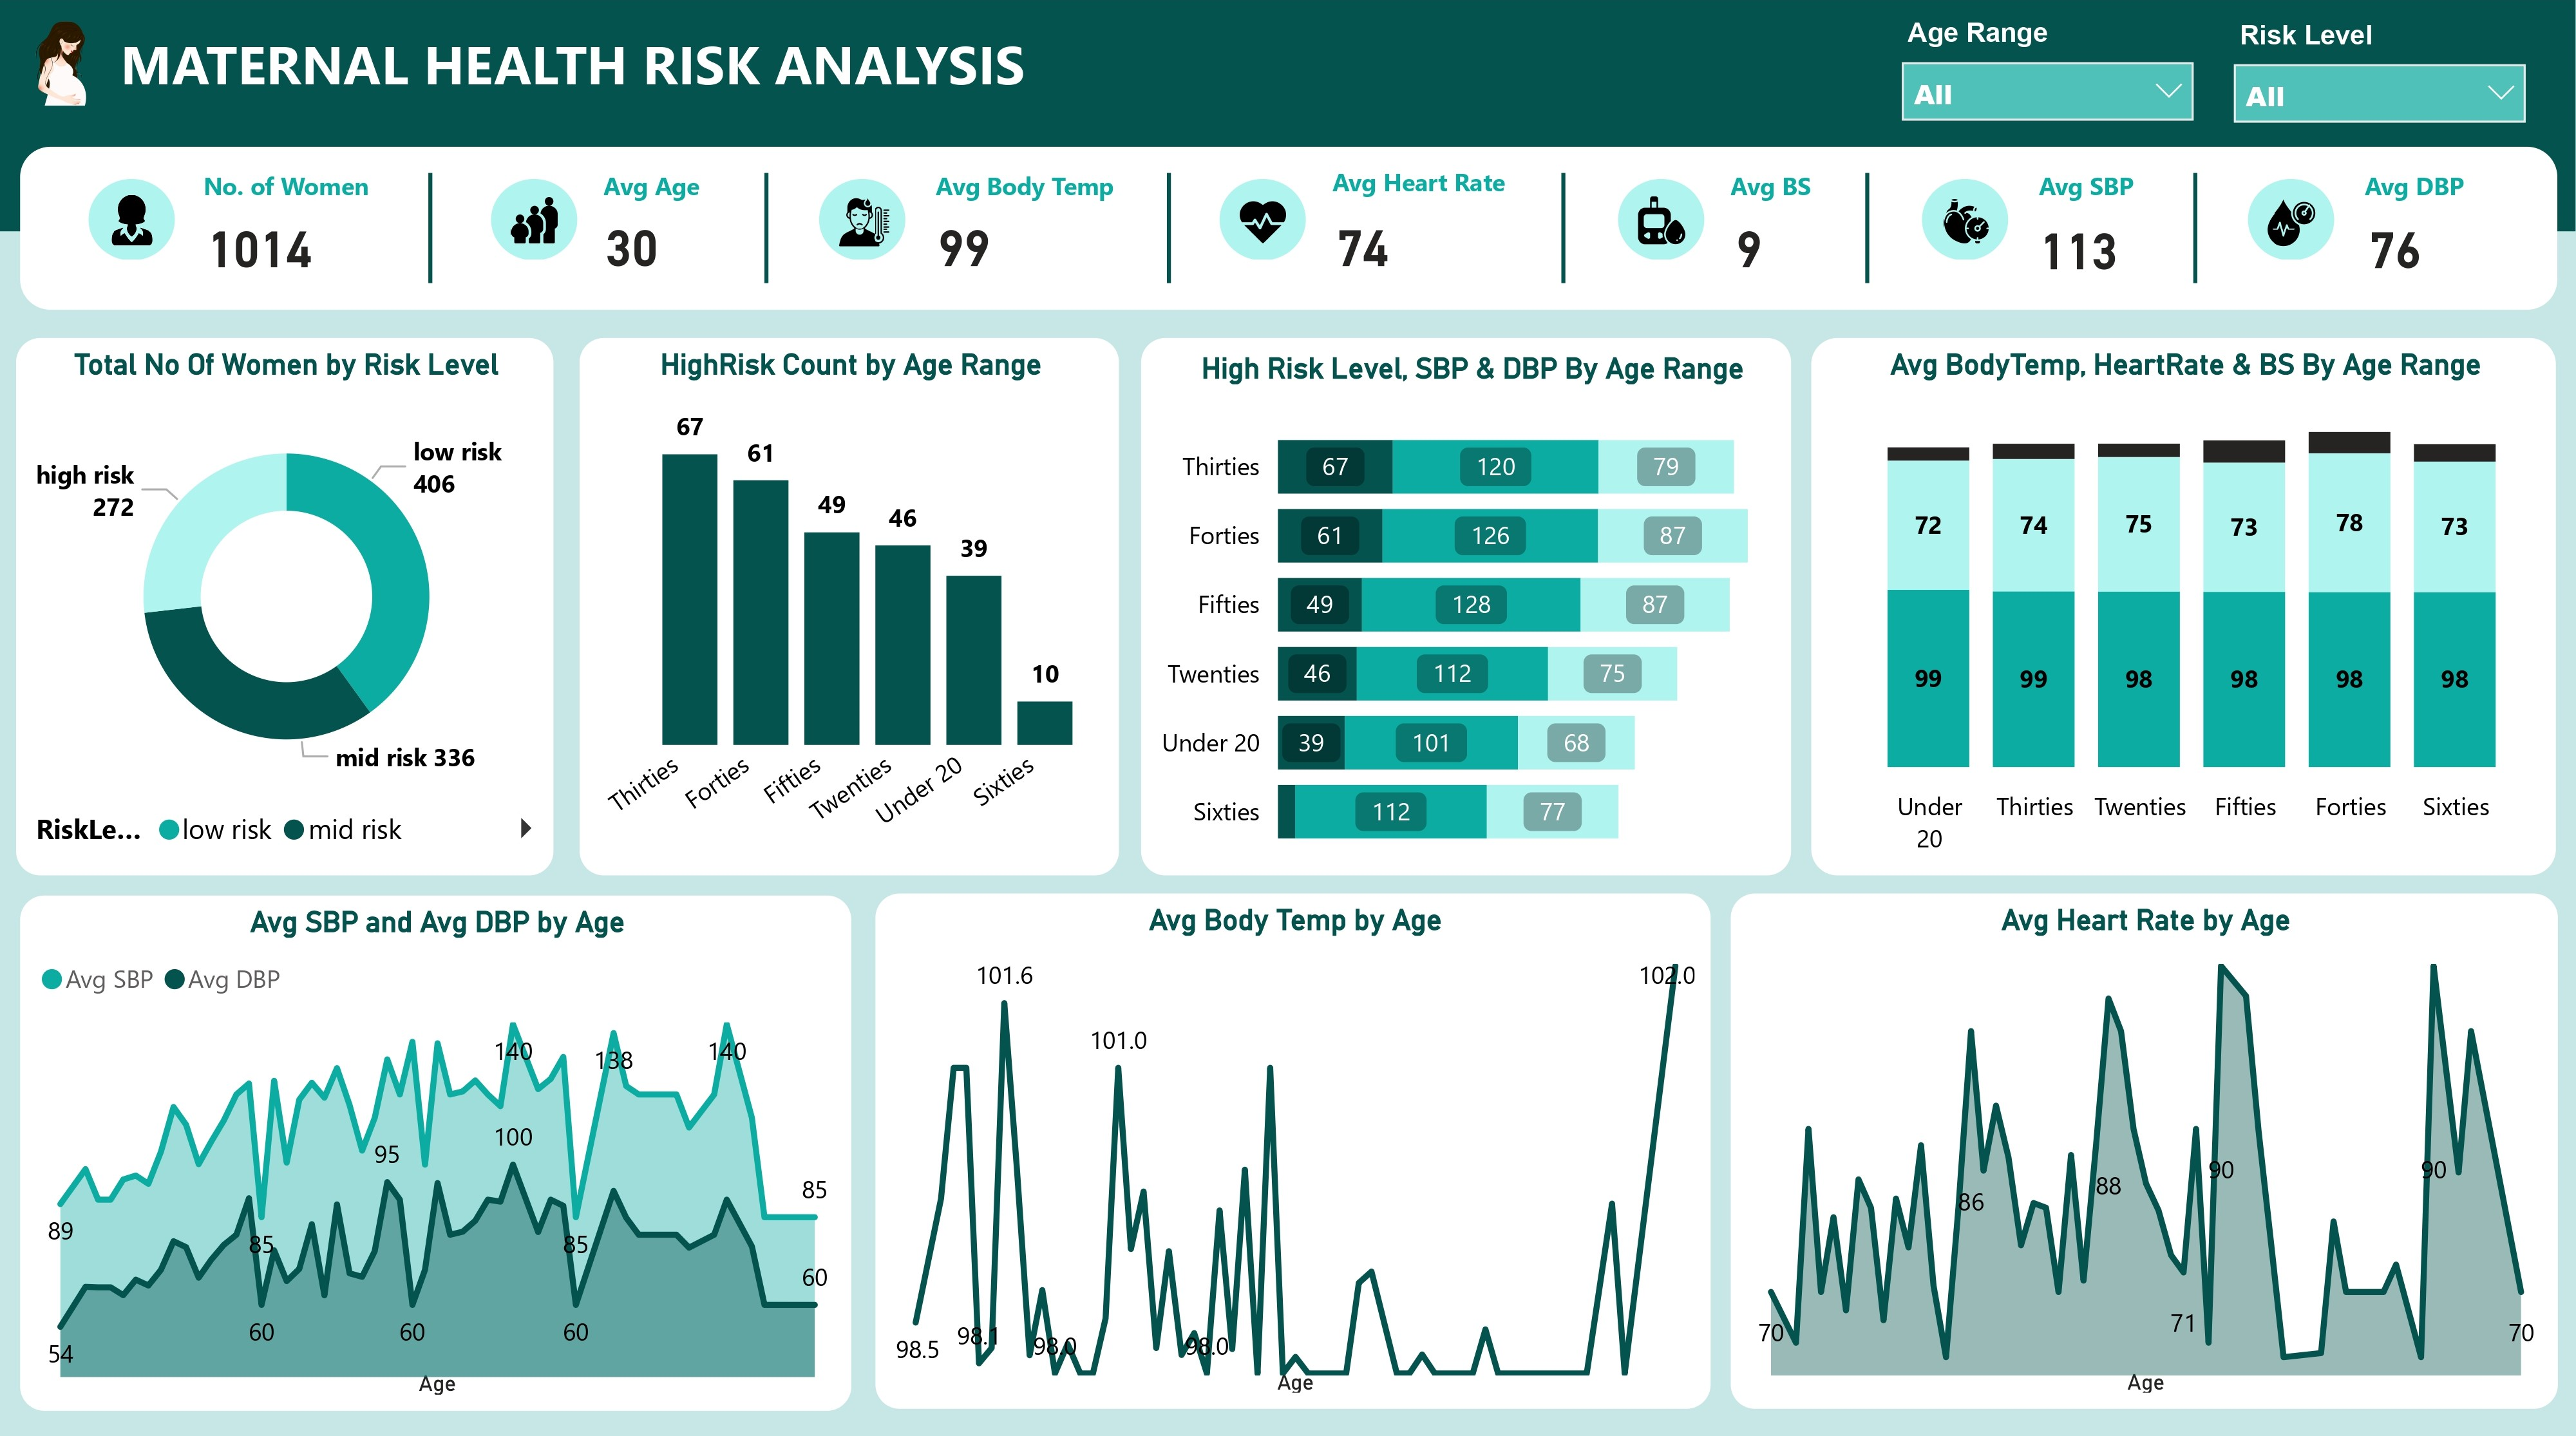

What the dashboard file says about the page in this screenshot:
{"tool":"powerbi","page":{"name":"Page 1","canvas":[1280,720],"ordinal":0},"visuals":[{"type":"shape","box":[0,0,1280,65],"z":0},{"type":"textbox","box":[55.3,8.7,482.9,56.7],"z":1000},{"type":"card","fields":{"Values":["DAX.Total No Of Women"]},"box":[19.8,74.3,165.2,80.9],"z":2000},{"type":"card","fields":{"Values":["DAX.Avg Age"]},"box":[198.2,72.7,165.2,80.9],"z":3000},{"type":"card","fields":{"Values":["DAX.Avg Body Temp"]},"box":[378.2,72.7,165.2,80.9],"z":4000},{"type":"card","fields":{"Values":["DAX.Avg Heart Rate"]},"box":[558.2,74.3,165.2,80.9],"z":5000},{"type":"card","fields":{"Values":["DAX.Avg BS"]},"box":[738.3,74.3,165.2,80.9],"z":6000},{"type":"card","fields":{"Values":["DAX.Avg SBP"]},"box":[919.9,74.3,165.2,80.9],"z":7000},{"type":"card","fields":{"Values":["DAX.Avg DBP"]},"box":[1100,74.3,165.2,80.9],"z":8000},{"type":"donutChart","title":"Total No Of Women by Risk Level","fields":{"Category":["Maternal Health Risk Data Set.RiskLevel"],"Y":["DAX.Total No Of Women"]},"box":[19.8,168.5,269.2,267.6],"z":9000},{"type":"columnChart","fields":{"Y":["CountNonNull(Maternal Health Risk Data Set.RiskLevel)"],"Category":["Maternal Health Risk Data Set.Age Range"]},"box":[300.6,168.5,308.9,267.6],"z":10000},{"type":"areaChart","fields":{"Category":["Maternal Health Risk Data Set.Age"],"Y":["DAX.Avg SBP","DAX.Avg DBP"]},"box":[19.8,450.9,406.3,256],"z":11000},{"type":"lineChart","fields":{"Category":["Maternal Health Risk Data Set.Age"],"Y":["DAX.Avg Body Temp"]},"box":[439.3,450.9,406.3,256],"z":12000},{"type":"stackedAreaChart","fields":{"Category":["Maternal Health Risk Data Set.Age"],"Y":["DAX.Avg Heart Rate"]},"box":[857.2,450.9,406.3,256],"z":13000},{"type":"barChart","title":"Risk Level, SBP & DBP By Age Range","fields":{"Category":["Maternal Health Risk Data Set.Age Range"],"Y":["CountNonNull(Maternal Health Risk Data Set.RiskLevel)","DAX.Avg SBP","DAX.Avg DBP"]},"box":[621,168.5,300.6,267.6],"z":14000},{"type":"columnChart","title":"BodyTemp, HeartRate & BS By Age Range","fields":{"Category":["Maternal Health Risk Data Set.Age Range"],"Y":["CountNonNull(Maternal Health Risk Data Set.RiskLevel)","DAX.Avg Body Temp","DAX.Avg Heart Rate","DAX.Avg BS"]},"box":[934.8,168.5,328.7,267.6],"z":15000},{"type":"slicer","fields":{"Values":["Maternal Health Risk Data Set.Age Range"]},"box":[934.8,0,165.2,64.4],"z":16000},{"type":"slicer","fields":{"Values":["Maternal Health Risk Data Set.RiskLevel"]},"box":[1100,0,165.2,64.4],"z":17000},{"type":"image","box":[2.7,0,55,64.6],"z":18000}]}

Visuals, with their boxes in screenshot pixels (x1, y1, x2, y2), scaled from the page's 1280x720 canvas onto the 2576x1436 screenshot:
shape: (0,0,2575,129)
textbox: (111,17,1083,131)
card - DAX.Total No Of Women: (40,148,372,310)
card - DAX.Avg Age: (399,145,732,307)
card - DAX.Avg Body Temp: (761,145,1094,307)
card - DAX.Avg Heart Rate: (1123,148,1456,310)
card - DAX.Avg BS: (1486,148,1818,310)
card - DAX.Avg SBP: (1851,148,2184,310)
card - DAX.Avg DBP: (2214,148,2546,310)
"Total No Of Women by Risk Level" donutChart: (40,336,582,870)
columnChart - CountNonNull(Maternal Health Risk Data Set.RiskLevel) x Maternal Health Risk Data Set.Age Range: (605,336,1227,870)
areaChart - Maternal Health Risk Data Set.Age x DAX.Avg SBP: (40,900,858,1410)
lineChart - Maternal Health Risk Data Set.Age x DAX.Avg Body Temp: (884,900,1701,1410)
stackedAreaChart - Maternal Health Risk Data Set.Age x DAX.Avg Heart Rate: (1725,900,2543,1410)
"Risk Level, SBP & DBP By Age Range" barChart: (1250,336,1855,870)
"BodyTemp, HeartRate & BS By Age Range" columnChart: (1881,336,2543,870)
slicer - Maternal Health Risk Data Set.Age Range: (1881,0,2214,128)
slicer - Maternal Health Risk Data Set.RiskLevel: (2214,0,2546,128)
image: (5,0,116,129)
